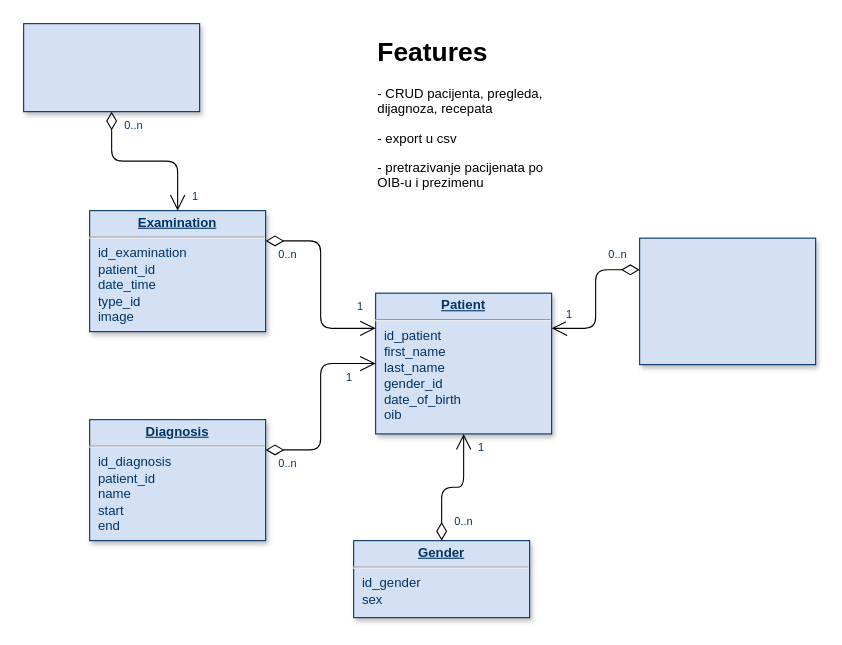
Some shapes in this 842 by 645 pixel diagram are drawn without their labels. Here are the shapes that lost their labels. From the top down, the centre of each, then its label:
point (112, 68): ExaminationType id_examination_type name code
point (728, 302): Perescription id_perscription name description start_date patient_id
